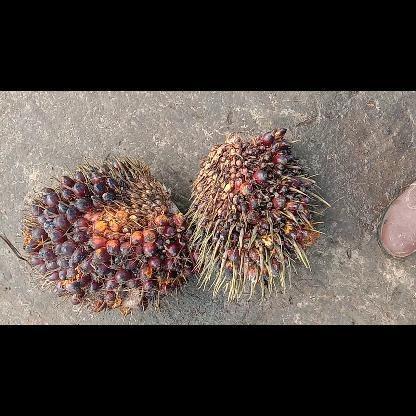Kurang masak: (20, 152, 200, 320)
TBS abnormal: (187, 129, 331, 299)
